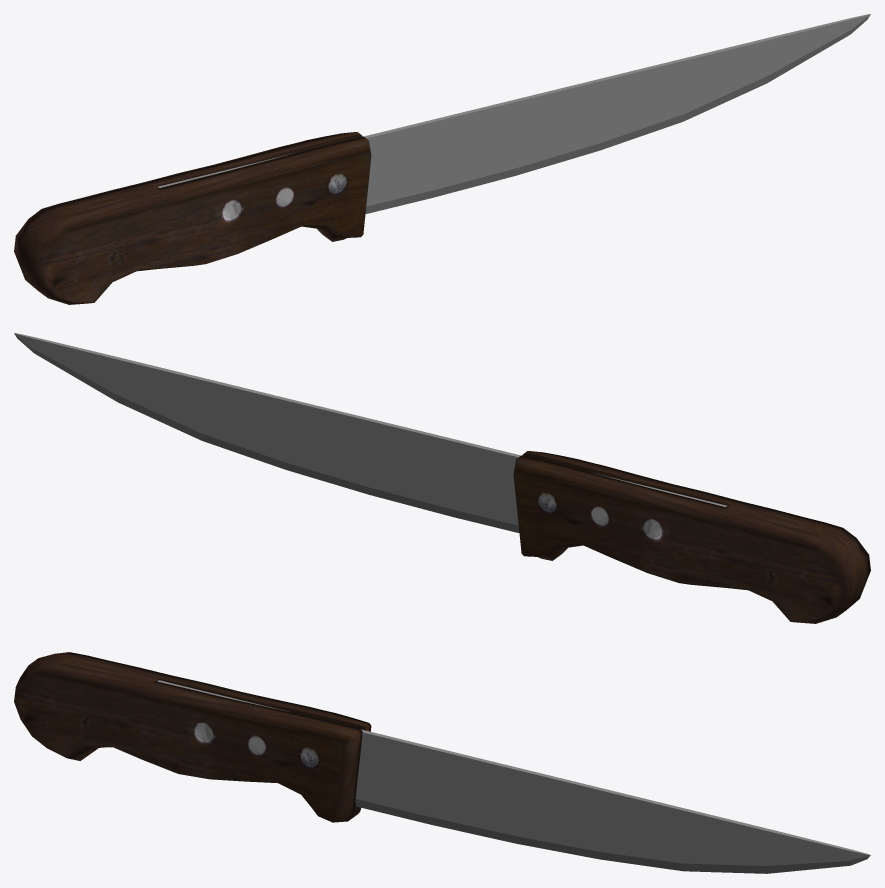
Rendered from knife.fbx.
The picture shows the model from 3 angles, top to bottom: view 1: azimuth 30°, elevation 25°; view 2: azimuth 150°, elevation 25°; view 3: azimuth 330°, elevation 25°; orthographic projection.
Visible parts, largest first — view 1: Knife; view 2: Knife; view 3: Knife.
Boxes of the visible parts, bbox=[...] form: Knife: bbox=[14, 14, 870, 304]; Knife: bbox=[14, 333, 870, 623]; Knife: bbox=[14, 652, 870, 873].
Size of the model in its own units: 39.34 by 4.31 by 2.25.
Materials: 1 (1 with a texture image).
